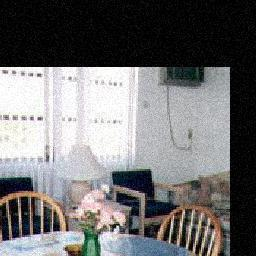Escaleras: (121, 167, 180, 234), (0, 187, 70, 240), (0, 179, 66, 231), (154, 203, 222, 253)
